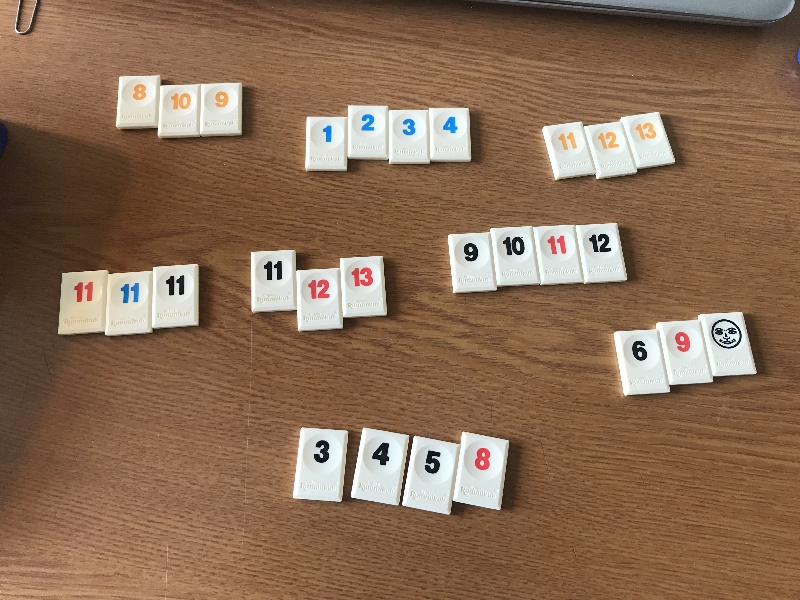single_tile: (350, 424, 410, 513), (293, 423, 349, 506), (454, 432, 510, 512), (402, 434, 456, 515), (654, 319, 716, 389), (697, 310, 758, 381), (613, 328, 674, 397), (582, 118, 640, 183), (152, 259, 203, 331), (620, 110, 678, 173), (106, 265, 154, 340), (533, 223, 586, 289), (543, 122, 601, 182), (57, 268, 107, 337), (488, 224, 542, 287), (574, 220, 628, 283), (338, 255, 389, 321), (295, 268, 346, 333), (448, 231, 500, 294), (249, 247, 298, 312), (426, 101, 474, 165), (344, 102, 392, 163), (304, 113, 350, 175), (116, 74, 163, 132), (387, 107, 434, 165), (157, 84, 203, 139), (202, 79, 244, 139)
tile_row: (290, 421, 518, 523), (303, 97, 477, 183), (243, 241, 397, 337), (444, 218, 633, 294), (612, 310, 760, 397), (54, 260, 206, 342), (114, 72, 254, 149), (541, 109, 680, 186)
